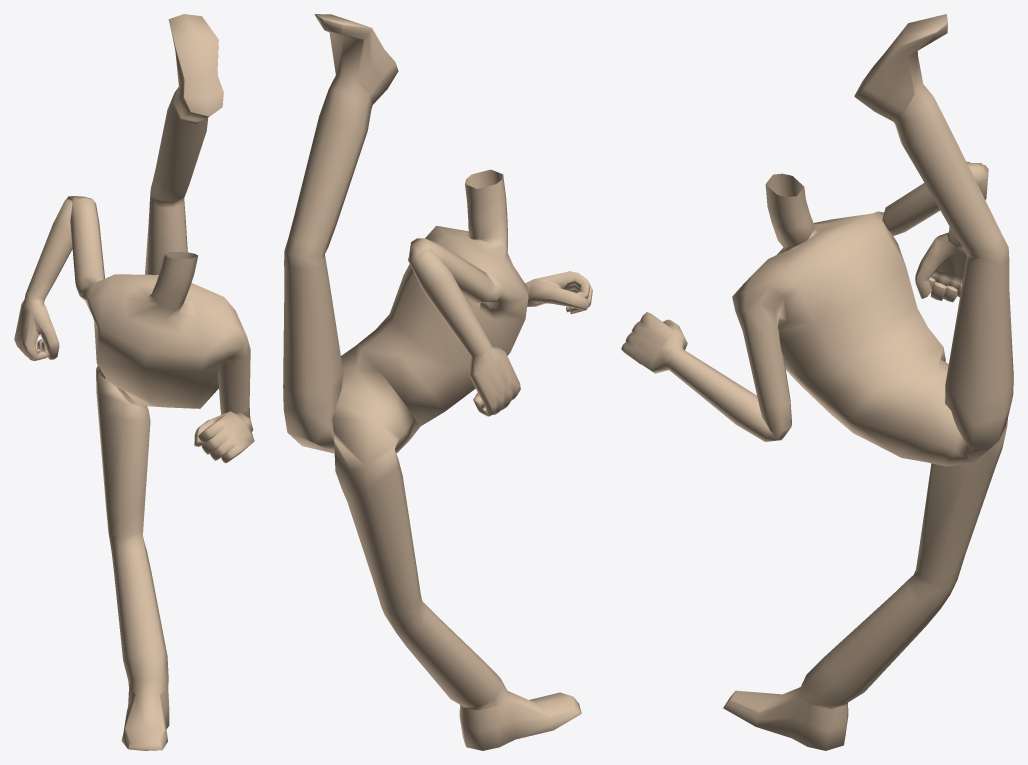
Rendered from Flip_walk.fbx.
The picture shows the model from 3 angles, left to right: view 1: azimuth 30°, elevation 25°; view 2: azimuth 150°, elevation 25°; view 3: azimuth 270°, elevation 25°; orthographic projection. The views are drawn at different scales.
Visible parts, largest first — view 1: bodySkin_Geo; view 2: bodySkin_Geo; view 3: bodySkin_Geo.
Boxes of the visible parts, left/top/right/bottom form: bodySkin_Geo: left=14, top=14, right=254, bottom=750; bodySkin_Geo: left=283, top=14, right=592, bottom=750; bodySkin_Geo: left=621, top=14, right=1013, bottom=750.
Bounding box in the file's own units: 58.24 × 194 × 89.76.
